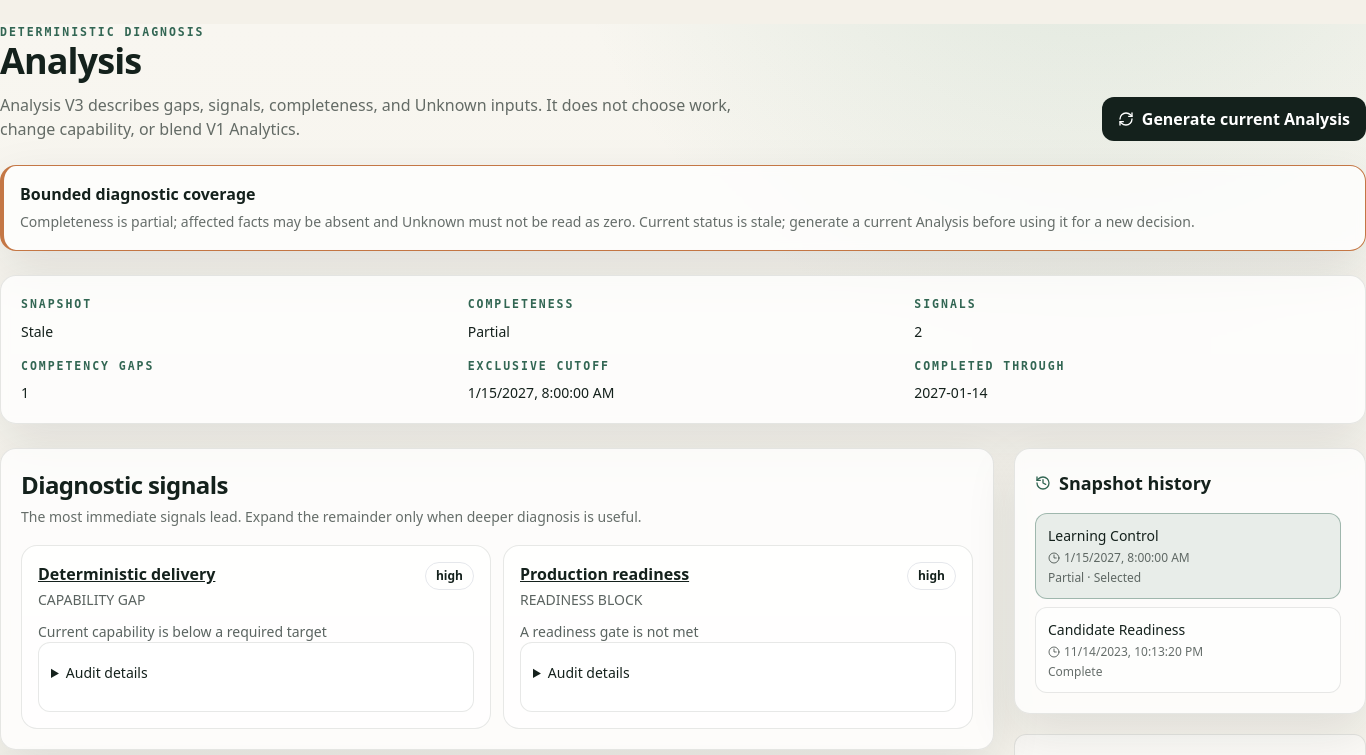
Test: Analysis V3 diagnostic surface › shows current diagnosis and inspects immutable history without generating
Expected: the heading "Analysis" is shown, [0,36,141,85]
Expected: the heading "CAPABILITY GAP" is shown, [38,590,145,609]
Click the button "candidate readiness 11/14/2023, 10:13:20 PM complete" at (1188, 650), box [1035,607,1341,693]
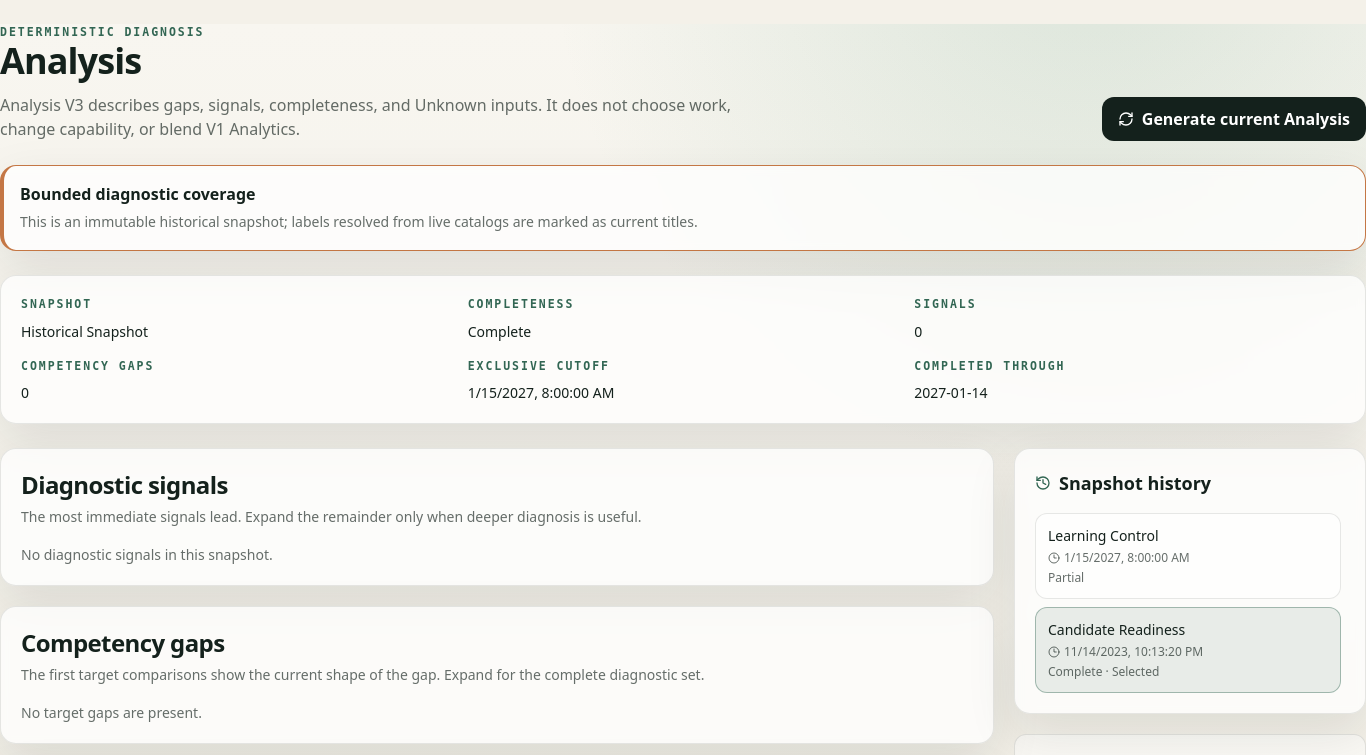
Expected: the text "No diagnostic signals in this snapshot." is shown, [21,545,273,564]
